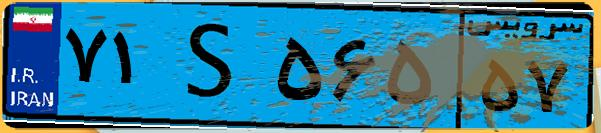1: (110, 28, 158, 98)
5: (270, 28, 330, 110), (385, 28, 445, 110), (475, 38, 525, 113)
6: (330, 28, 385, 110)
7: (57, 26, 110, 100), (525, 38, 570, 115)
S: (158, 12, 270, 120)
